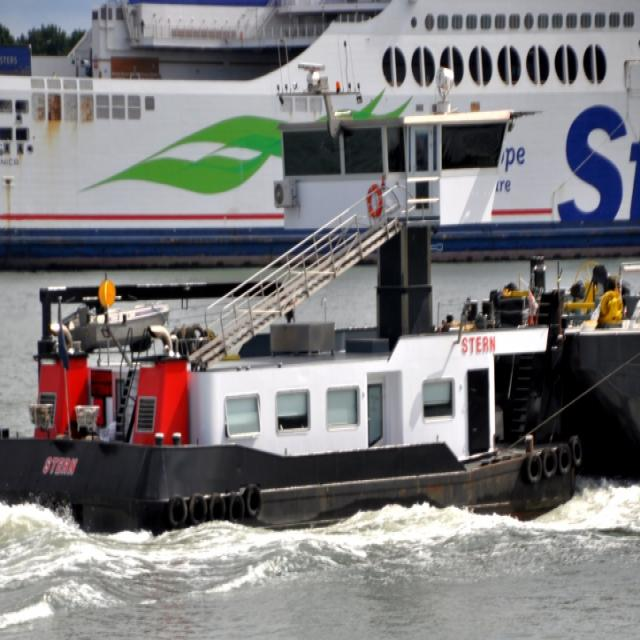tugboat: (1, 59, 590, 559)
